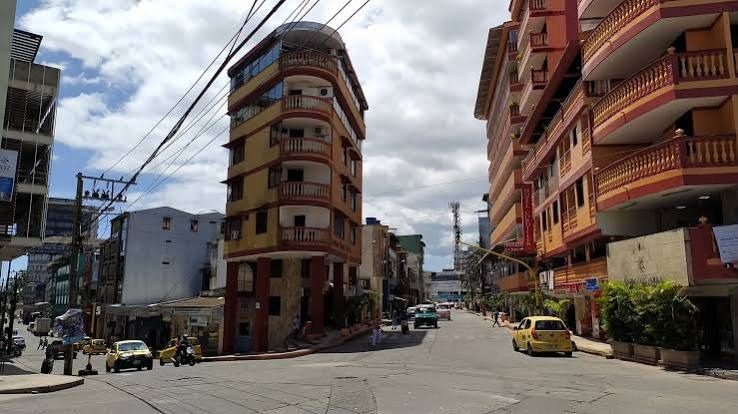car: (517, 318, 573, 356)
